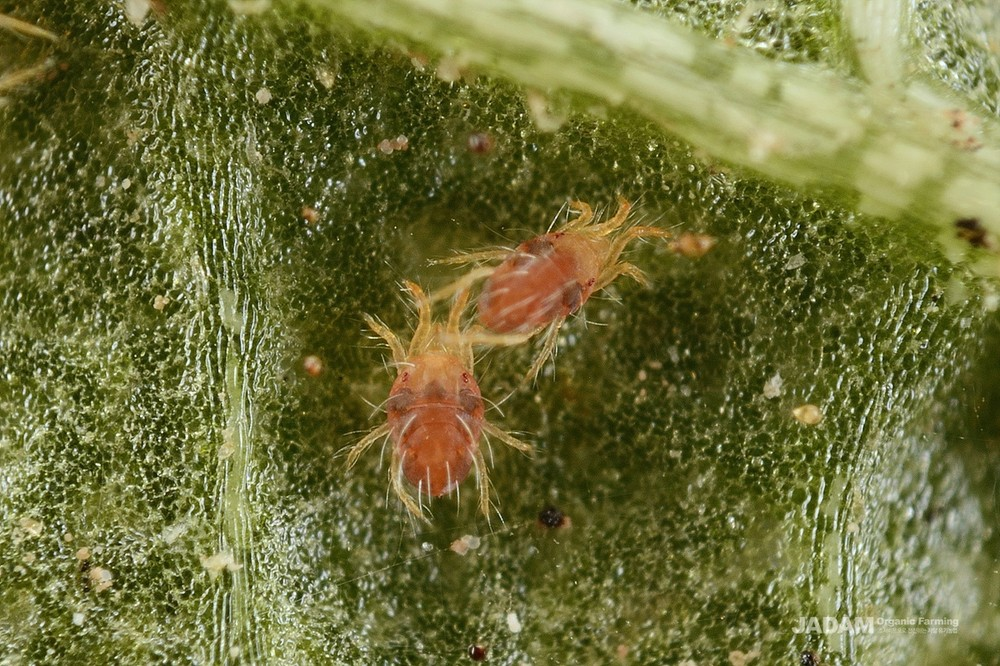Aracnido Rojo: (333, 279, 536, 550), (449, 189, 677, 362)
